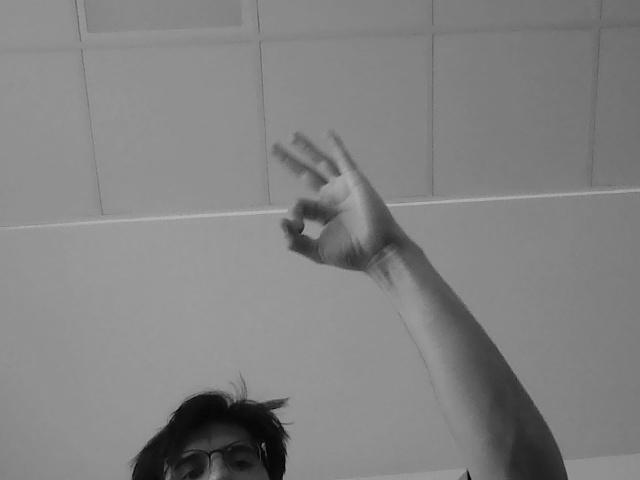OK: (241, 128, 411, 268)
